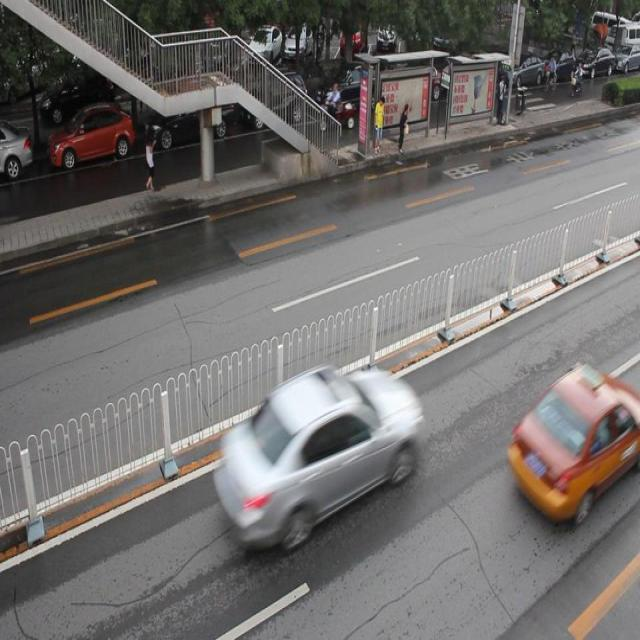car: (212, 363, 424, 552), (504, 364, 640, 523), (48, 105, 136, 174), (142, 92, 235, 144), (315, 61, 391, 119), (240, 72, 309, 133), (1, 125, 36, 182)
